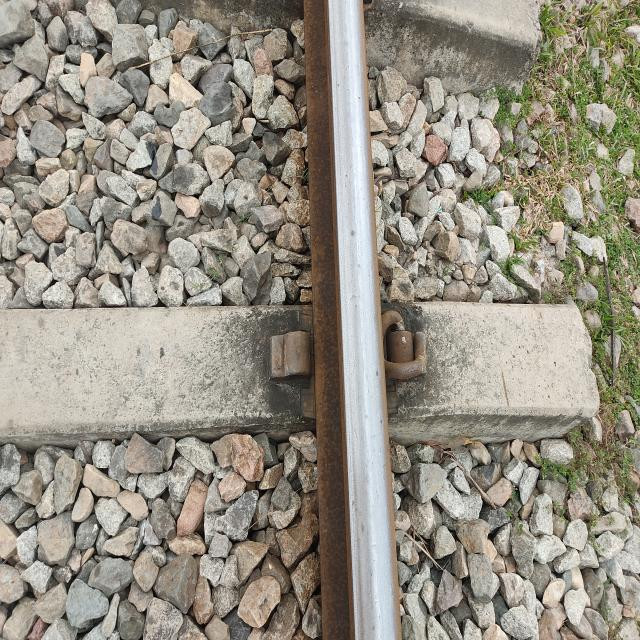fault: (264, 325, 321, 395)
